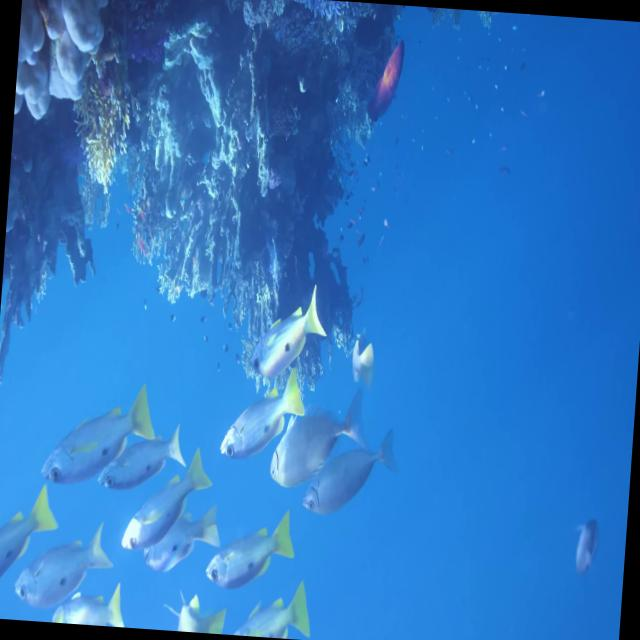fish: (39, 370, 152, 490), (265, 382, 371, 496), (117, 448, 211, 568), (14, 516, 115, 612), (214, 359, 302, 467), (302, 424, 398, 522), (248, 288, 328, 382), (205, 510, 292, 596), (138, 498, 220, 582), (214, 579, 317, 640), (96, 426, 182, 499), (42, 578, 127, 627)
